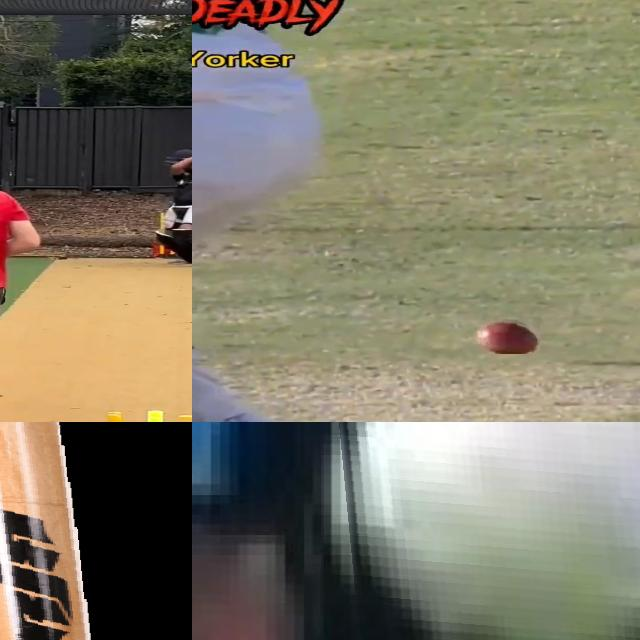Cricket ball: (323, 422, 640, 640), (473, 317, 540, 354)
Stumps: (0, 422, 192, 640)
